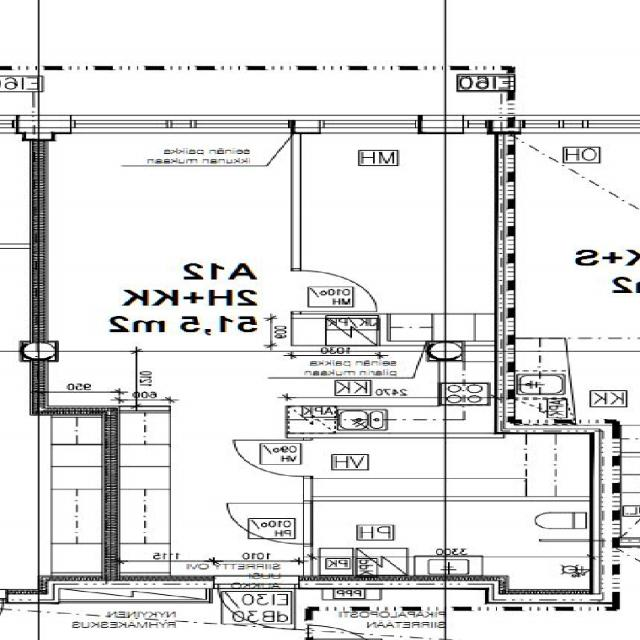door: (219, 576, 296, 629), (227, 503, 313, 544), (292, 271, 376, 311), (238, 440, 314, 476)
